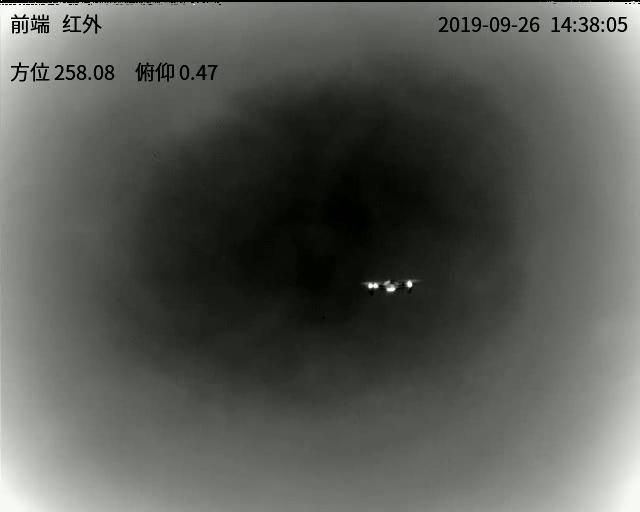DRONE: (363, 276, 416, 297)
